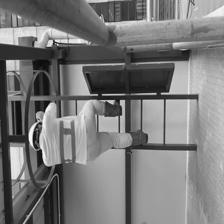Feet: (122, 122, 157, 154), (100, 90, 128, 119)
Hand: (33, 107, 70, 114)
Ladder: (9, 90, 194, 152)
